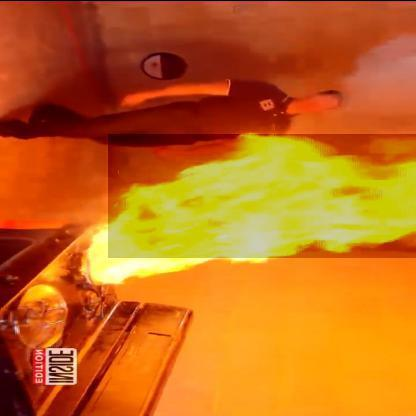Fire: (107, 132, 415, 258)
